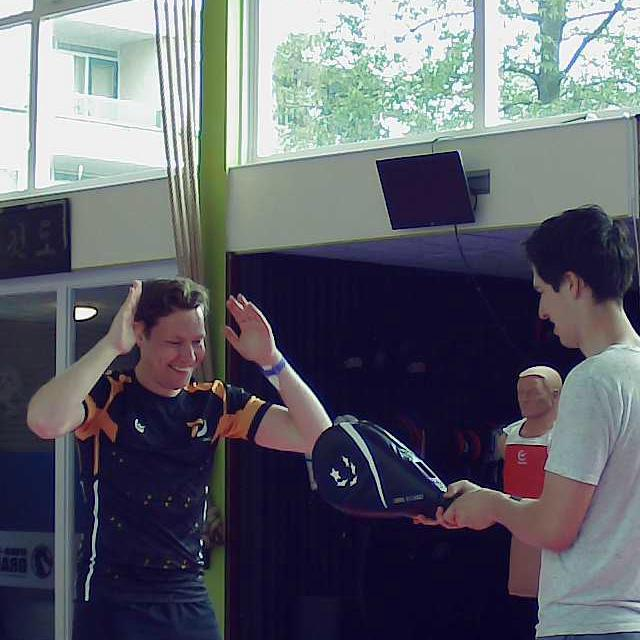paddle: (311, 421, 460, 525)
